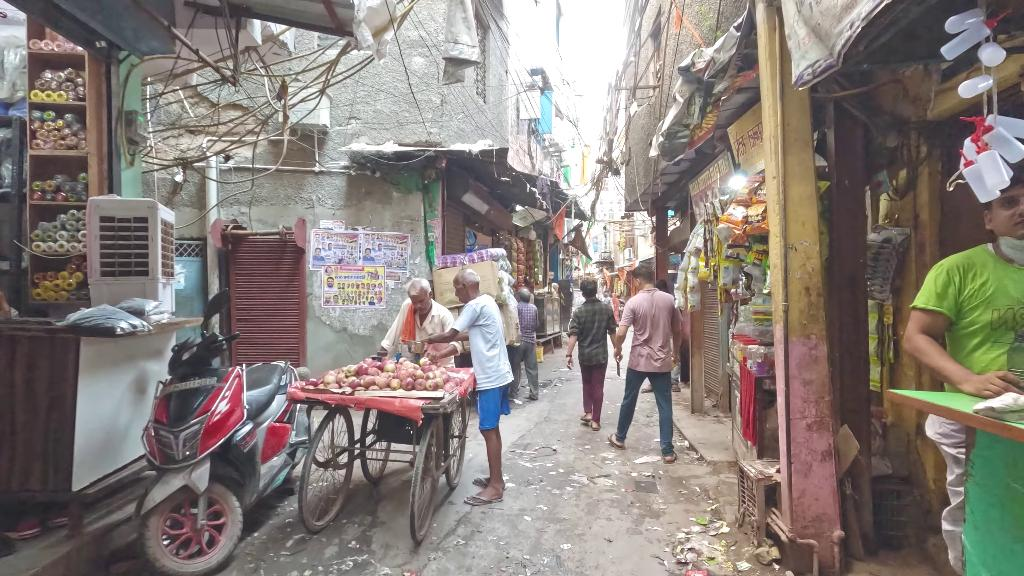garbage: (668, 532, 748, 576)
